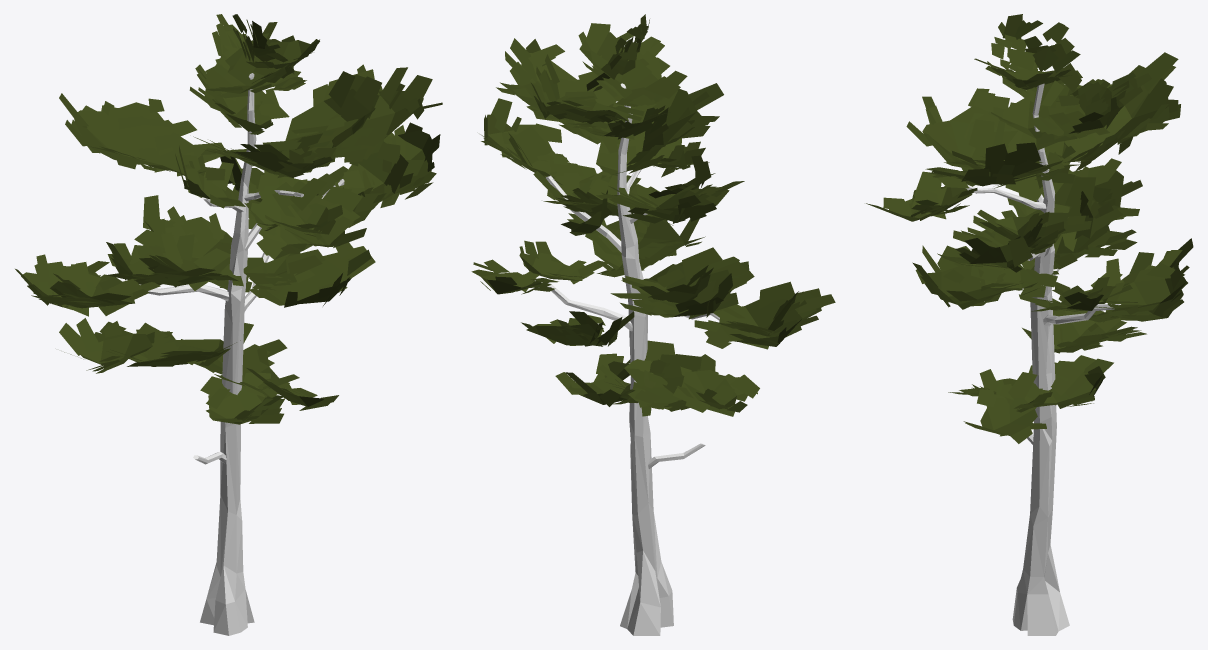
Rendered from SM_Tree_Pine_Young_A.fbx.
The picture shows the model from 3 angles, left to right: view 1: azimuth 30°, elevation 25°; view 2: azimuth 150°, elevation 25°; view 3: azimuth 270°, elevation 25°; orthographic projection. The views are drawn at different scales.
Visible parts, largest first — view 1: tree-pine-young-a; view 2: tree-pine-young-a; view 3: tree-pine-young-a.
Boxes of the visible parts, left/top/right/bottom form: tree-pine-young-a: left=15, top=14, right=442, bottom=635; tree-pine-young-a: left=471, top=14, right=835, bottom=635; tree-pine-young-a: left=866, top=14, right=1193, bottom=635.
Size of the model in its own units: 3.83 by 5.95 by 2.86.
